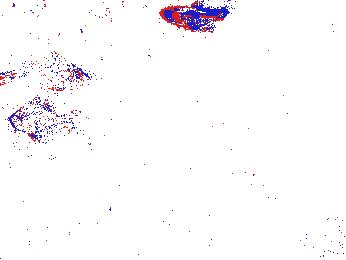X-ray fish: (21, 51, 92, 93), (7, 100, 78, 140), (94, 1, 117, 30)
red belly glassfish: (159, 3, 228, 28), (1, 62, 28, 87)
